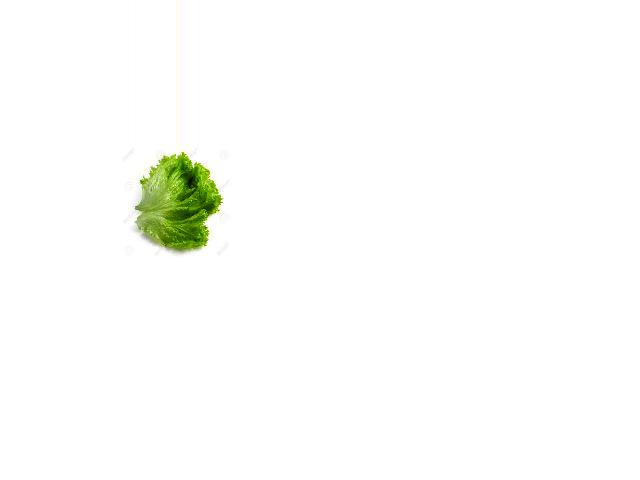lettuce: (133, 150, 218, 258)
